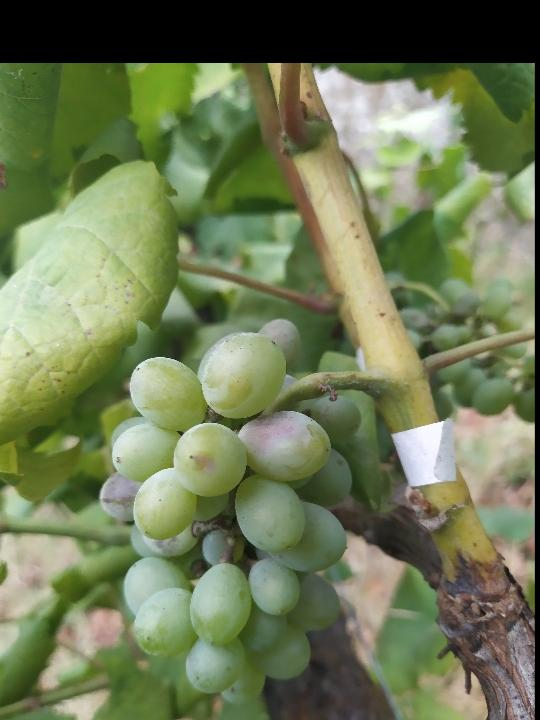grape: (94, 321, 369, 711)
